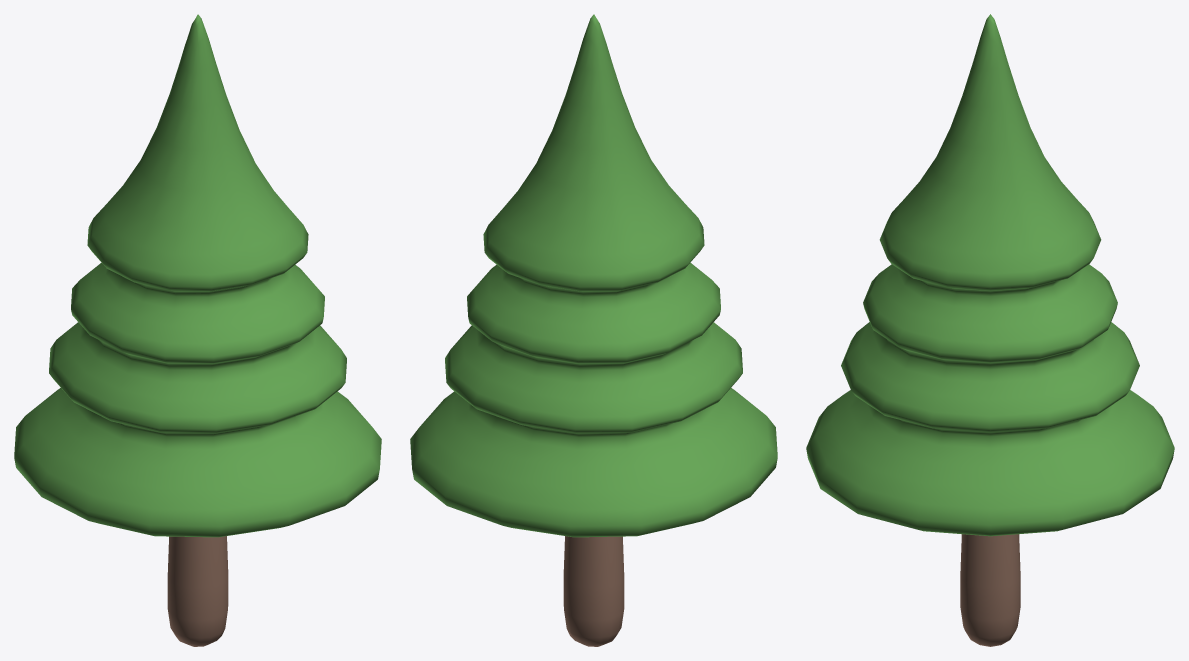
File: tree1.fbx
The picture shows the model from 3 angles, left to right: view 1: azimuth 30°, elevation 25°; view 2: azimuth 150°, elevation 25°; view 3: azimuth 270°, elevation 25°; orthographic projection.
Parts seen in each view (by area): view 1: tree.002; view 2: tree.002; view 3: tree.002.
Boxes of the visible parts, left/top/right/bottom form: tree.002: left=14, top=14, right=381, bottom=646; tree.002: left=410, top=14, right=777, bottom=646; tree.002: left=806, top=14, right=1174, bottom=646.
Size of the model in its own units: 526 by 1002 by 531.
